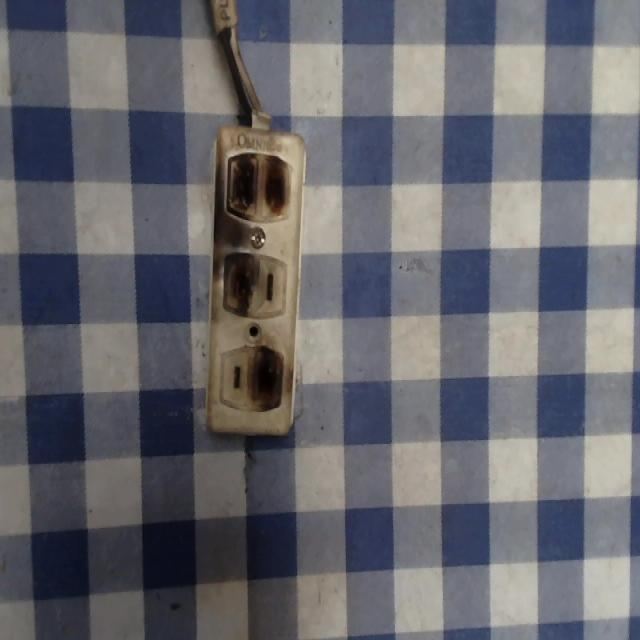-: (223, 144, 292, 219), (222, 249, 261, 316), (251, 341, 286, 412)
